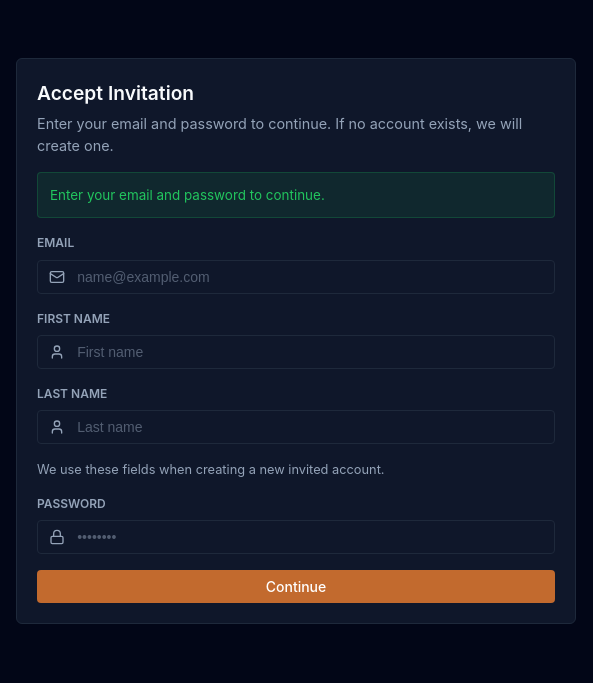
Test case: AcceptInvitation › shows invitation email mismatch as inline validation error
In the field labelled "Email": (296, 277) [37, 260, 555, 294], type "wrong@example.com"
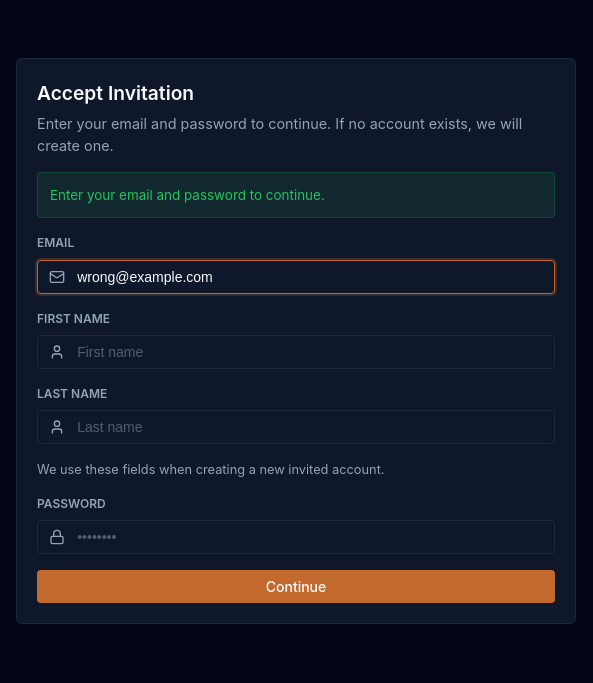
In the password field labelled "Password": (296, 537) [37, 520, 555, 554], type "Password123!"
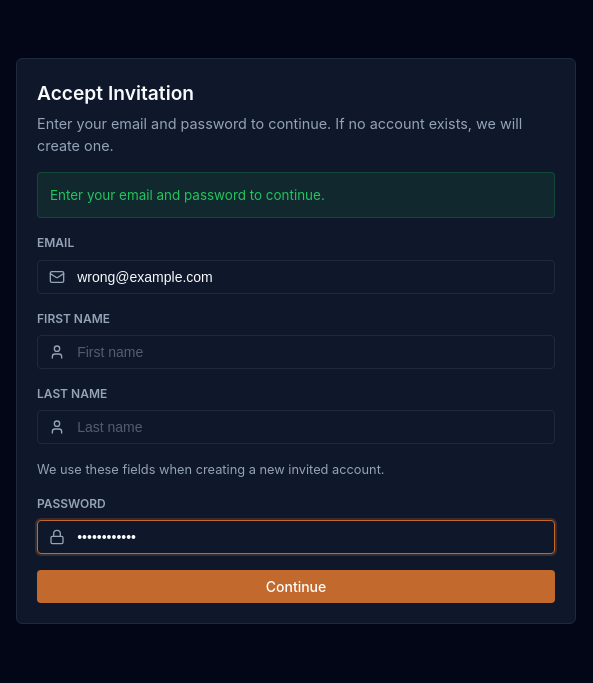
Click the button "Continue": (296, 587) [37, 570, 555, 603]
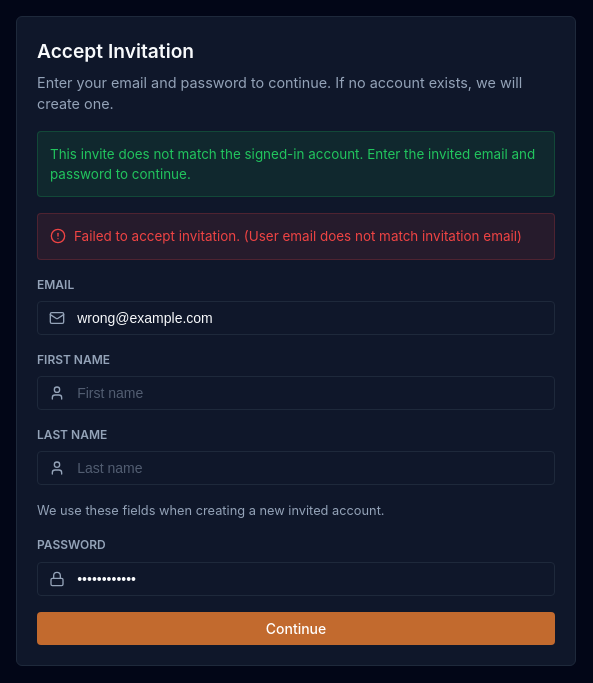
Now the text "User email does not match invitation email" is shown, box [74, 228, 522, 244]
